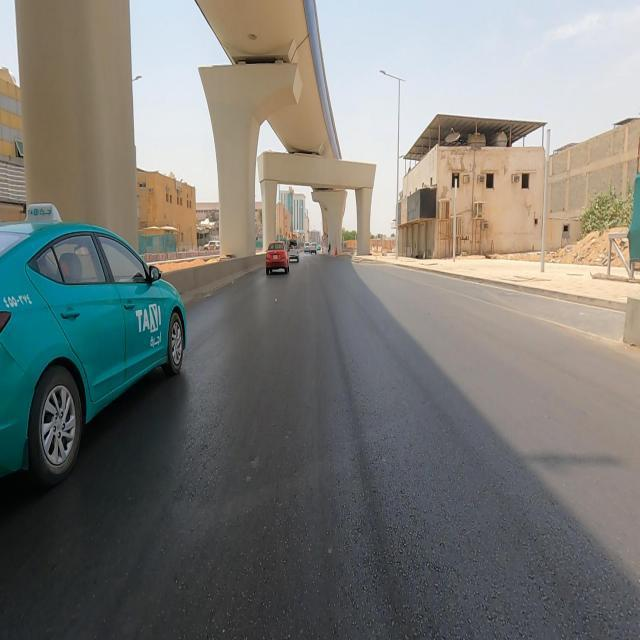debris: (379, 170, 457, 252)
